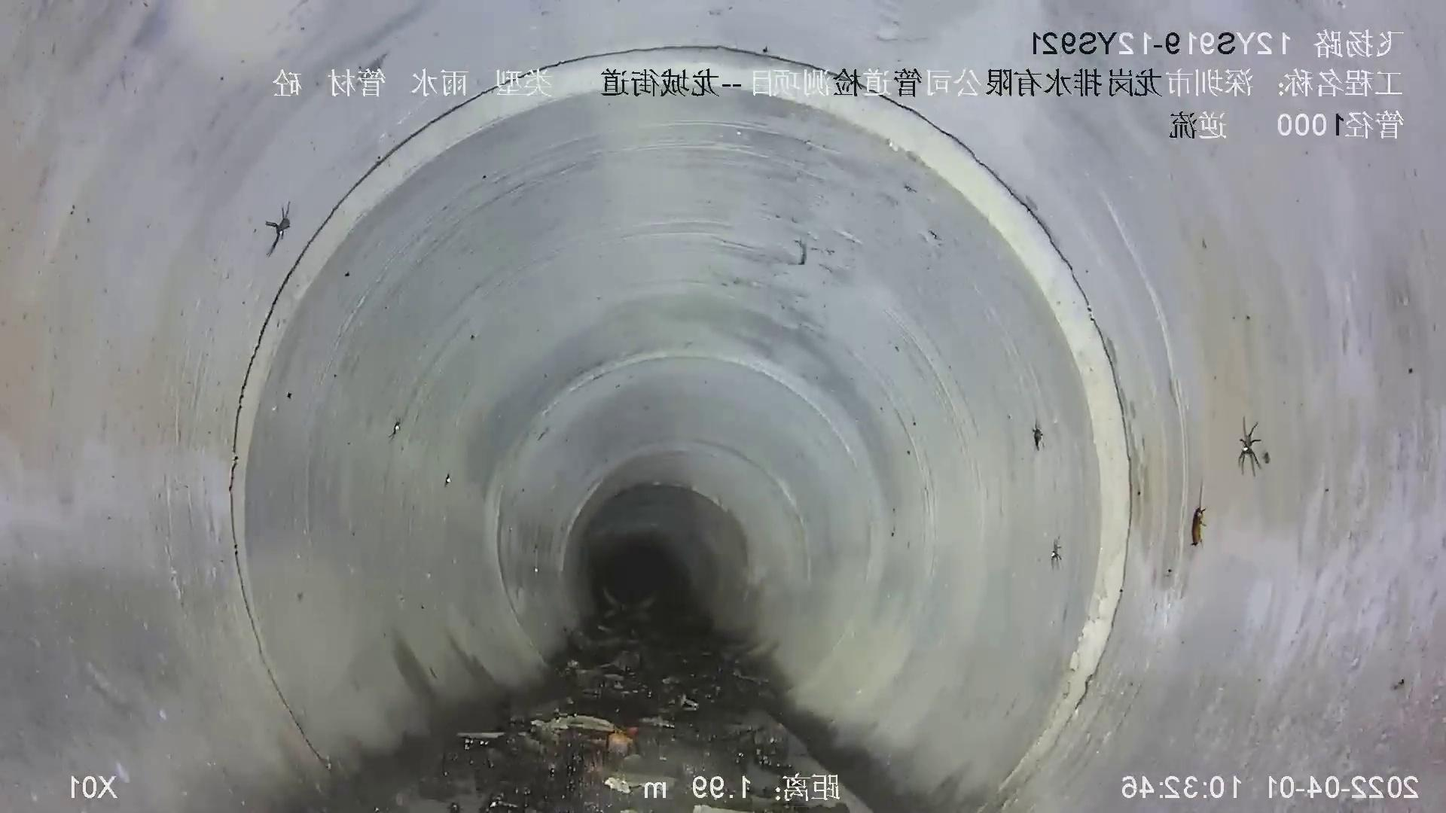CJ: (319, 604, 867, 812)
CKTJ: (230, 47, 1130, 784)
